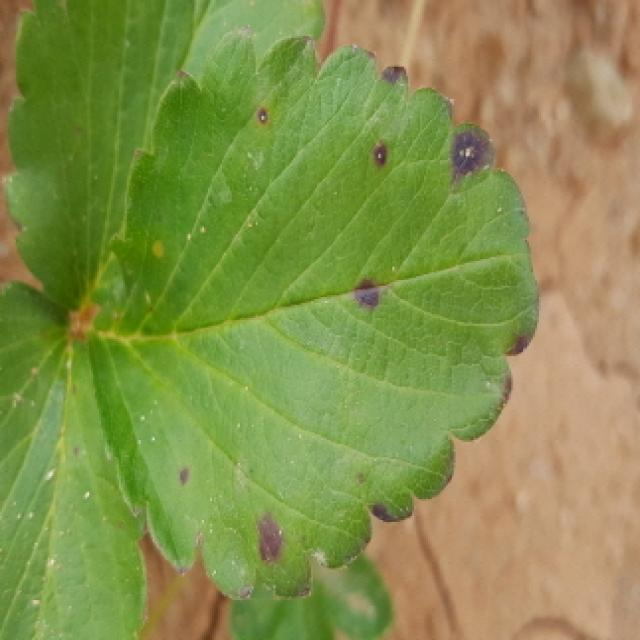Leaf Spot: (80, 31, 541, 604), (0, 281, 149, 640)
